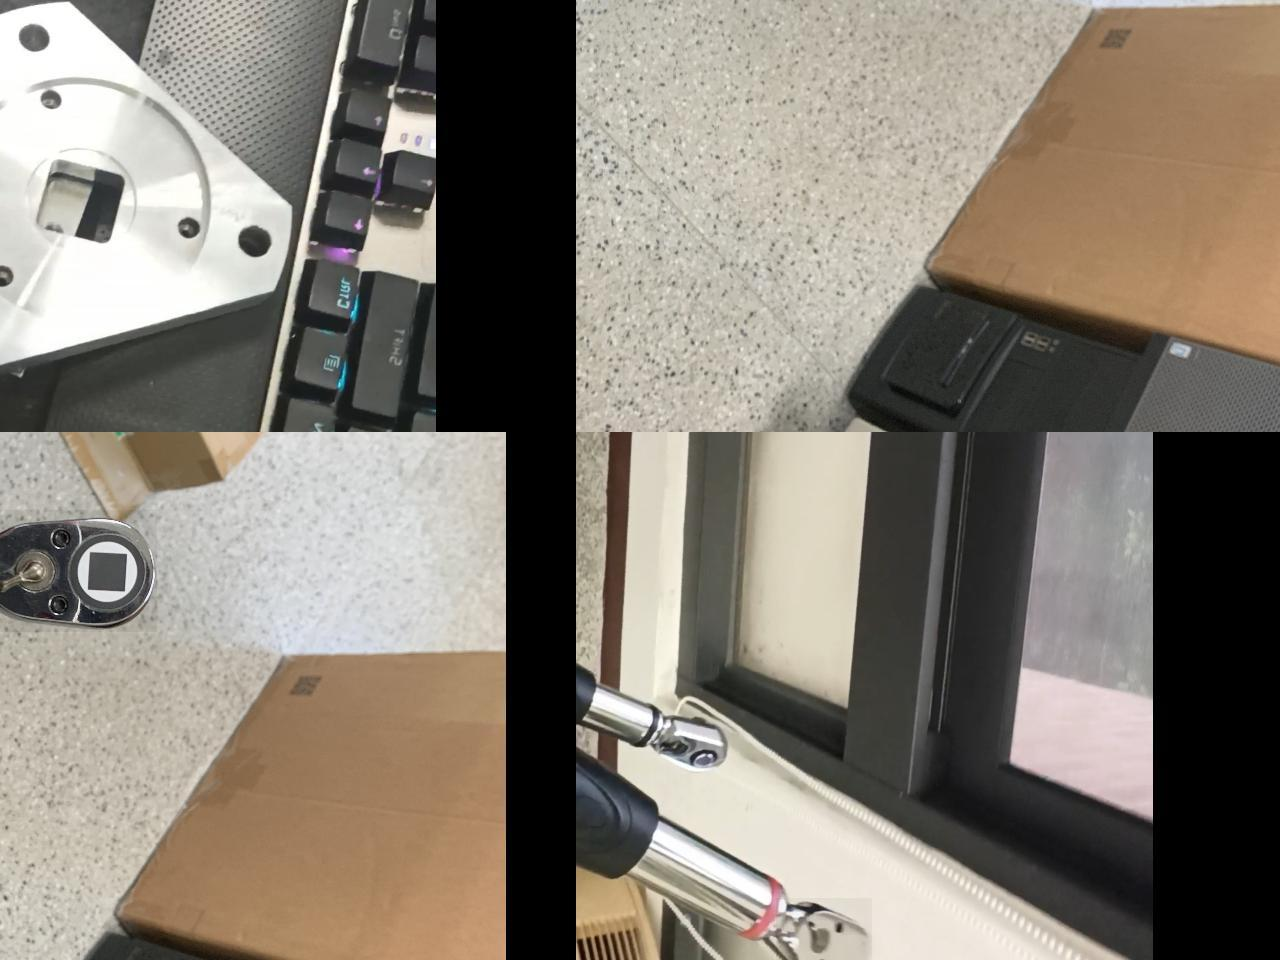Tool: (0, 510, 156, 632), (775, 898, 871, 960), (648, 715, 734, 771)
